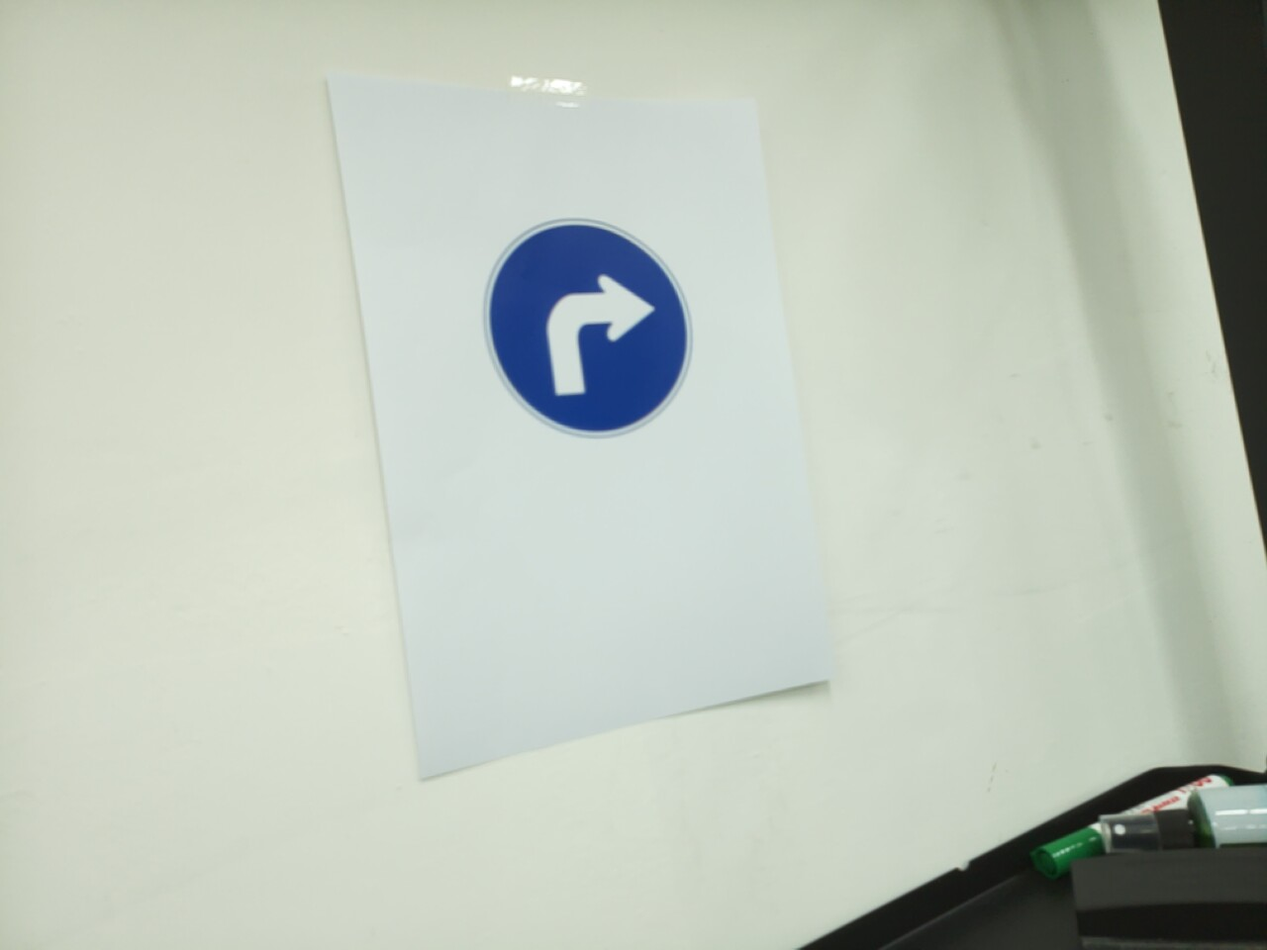right_turn: (481, 217, 695, 439)
